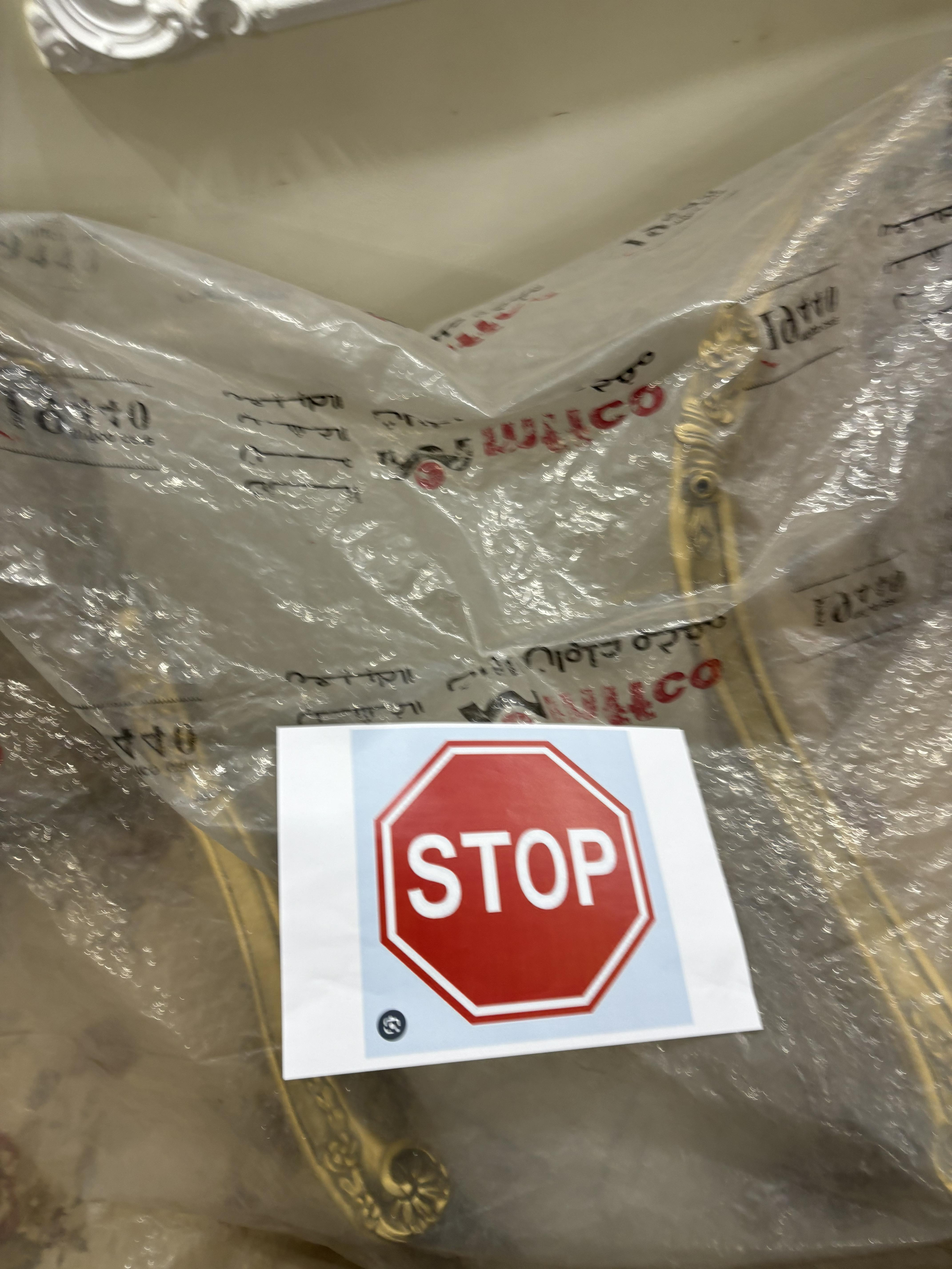Stop: (367, 725, 658, 1041)
